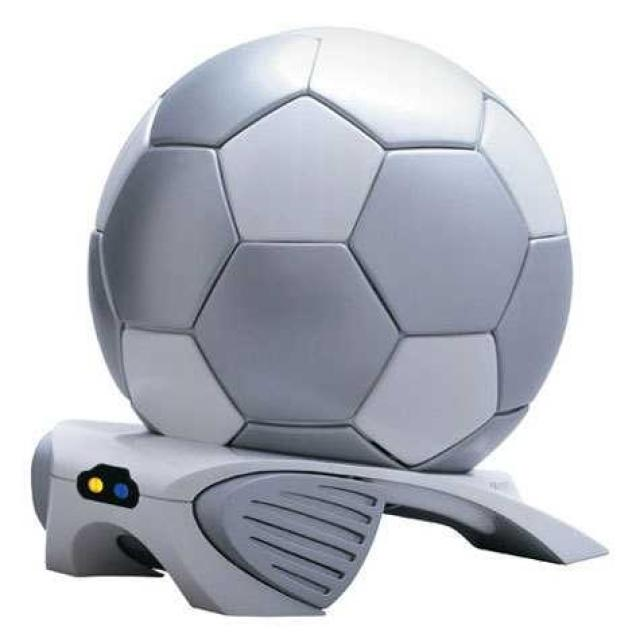ball: (91, 26, 574, 481)
